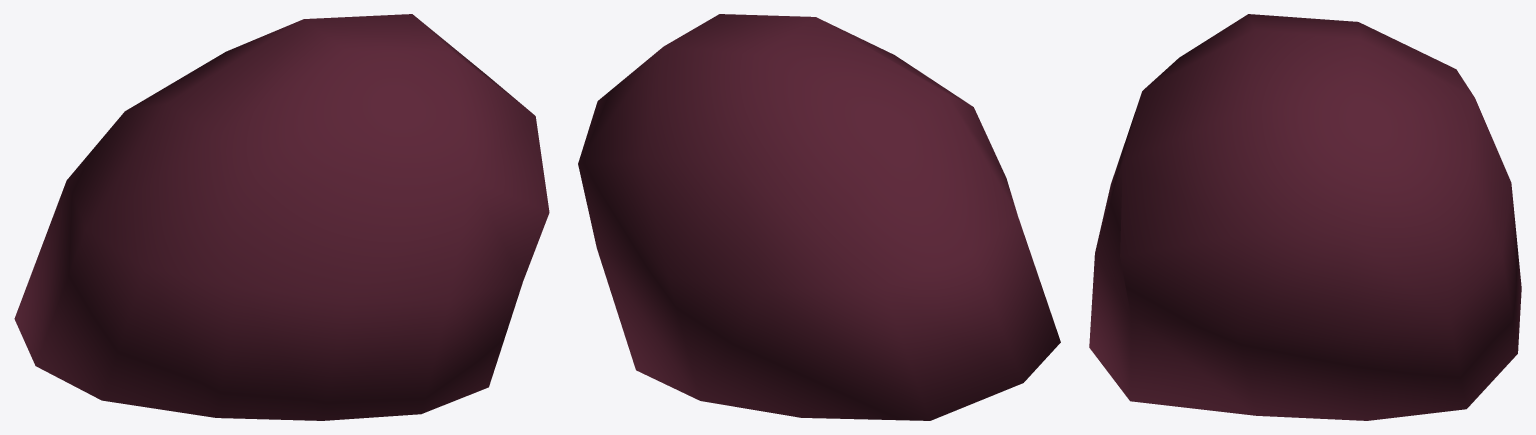
File: slicedredbean1.fbx
The picture shows the model from 3 angles, left to right: view 1: azimuth 30°, elevation 25°; view 2: azimuth 150°, elevation 25°; view 3: azimuth 270°, elevation 25°; orthographic projection. The views are drawn at different scales.
Parts seen in each view (by area): view 1: Cube.025; view 2: Cube.025; view 3: Cube.025.
Boxes of the visible parts, left/top/right/bottom form: Cube.025: left=14, top=14, right=549, bottom=420; Cube.025: left=578, top=14, right=1060, bottom=420; Cube.025: left=1089, top=14, right=1521, bottom=420.
Size of the model in its own units: 163 by 110 by 129.
